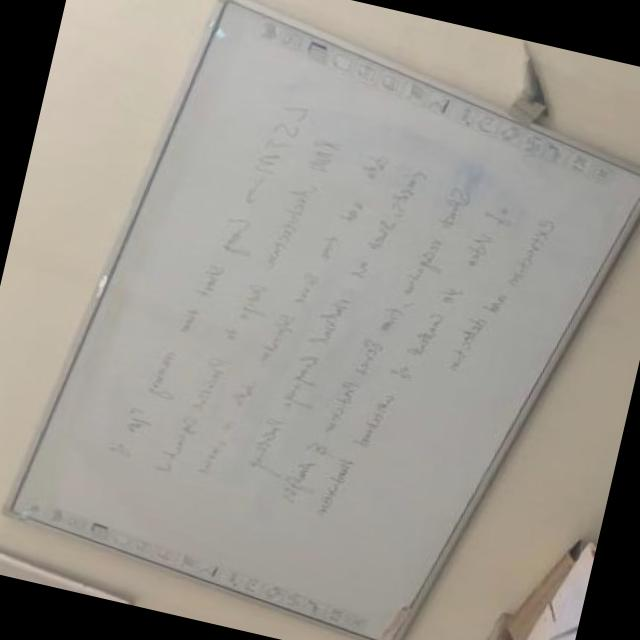White-board: (8, 0, 640, 640)
